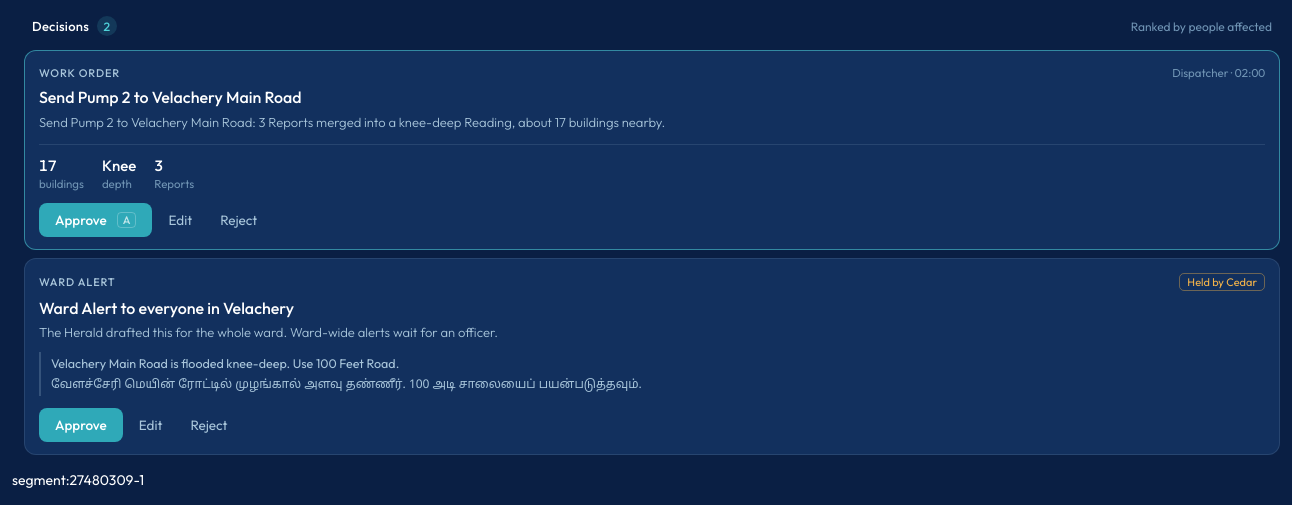
it: reject asks first
Expected: the element "Send Pump 2 to Velachery Main Road" is shown, [24,50,1280,250]
Click the button "Reject" below "depth": click(239, 220) [208,203,269,237]
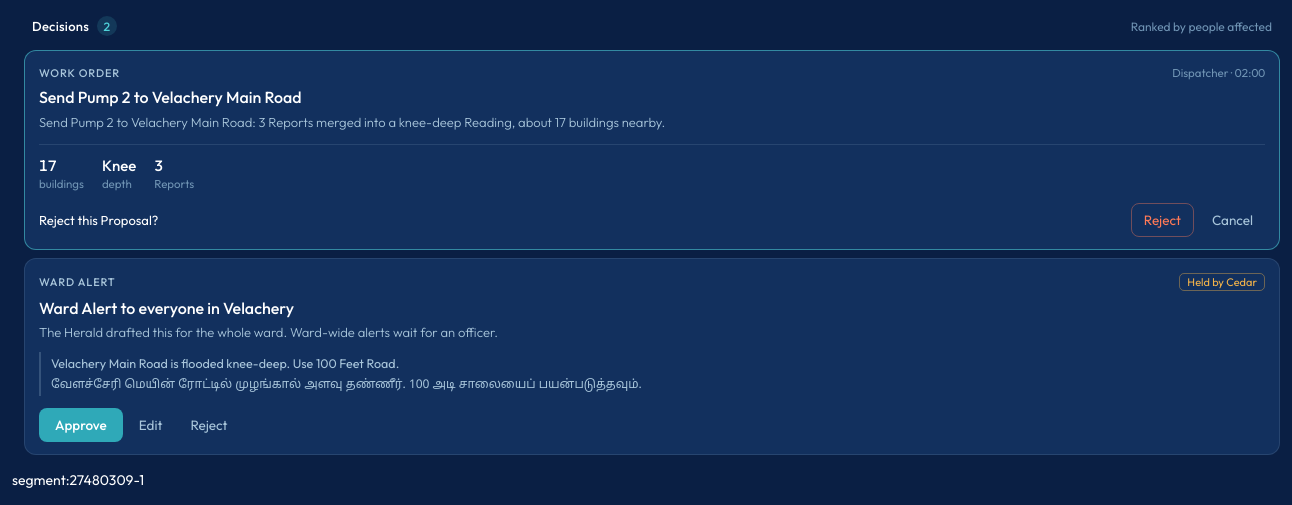
Result: the text "Reject this Proposal?" is shown at [39,212,158,228]
Click the button "Cancel": click(1232, 220) [1200,203,1265,237]
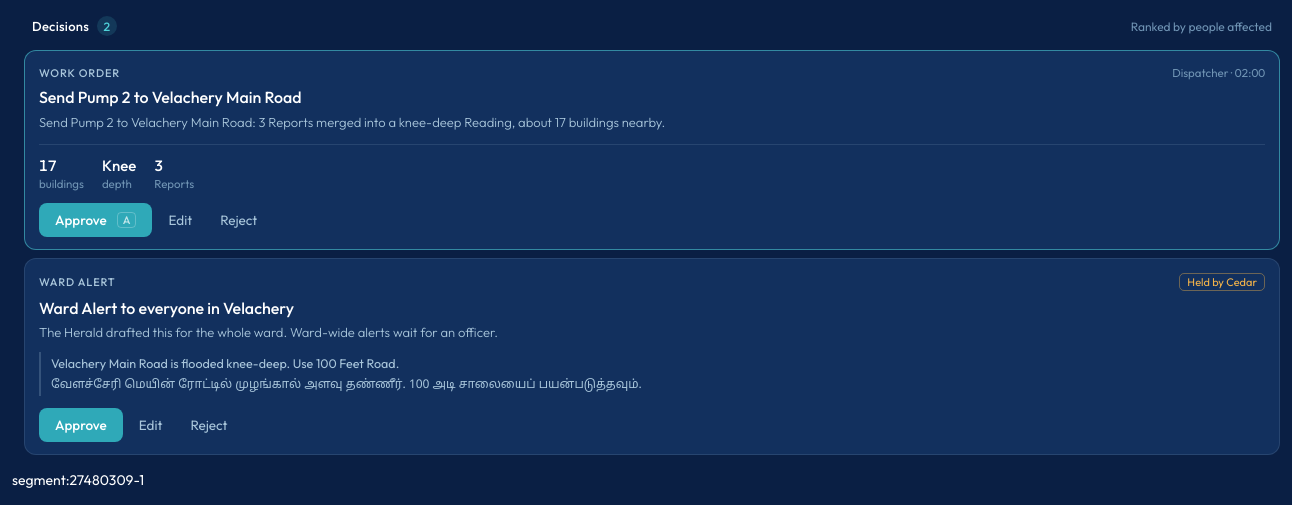
Result: the button "Approve A" is shown at [39,203,152,237]
Click the button "Reject" below "depth": click(239, 220) [208,203,269,237]
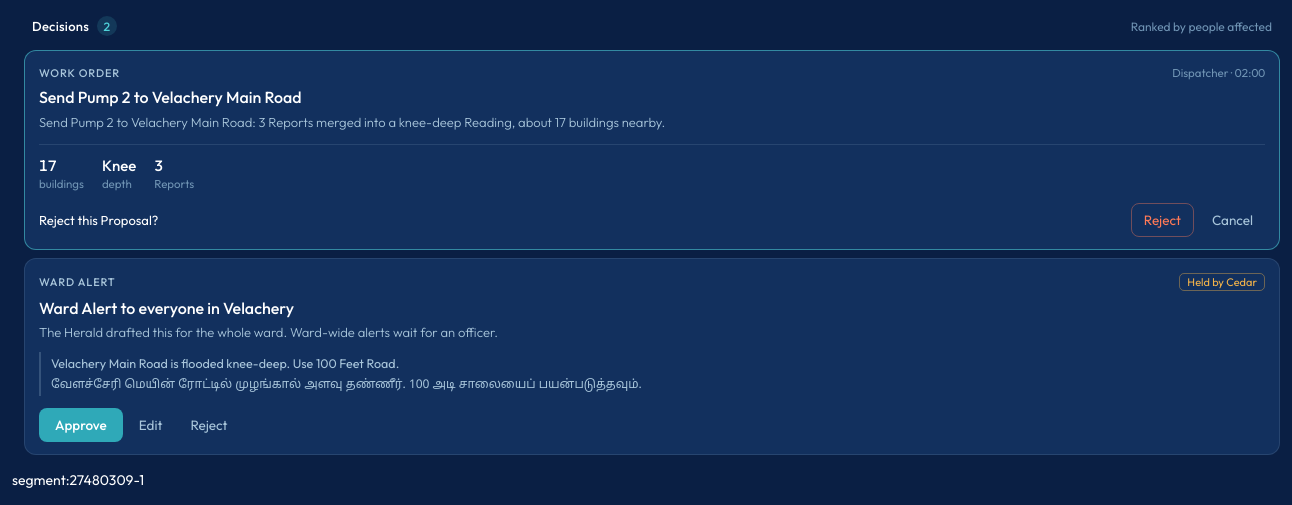
Click the button "Reject" in the row of "Reject this Proposal?": click(1162, 220) [1131,203,1194,237]
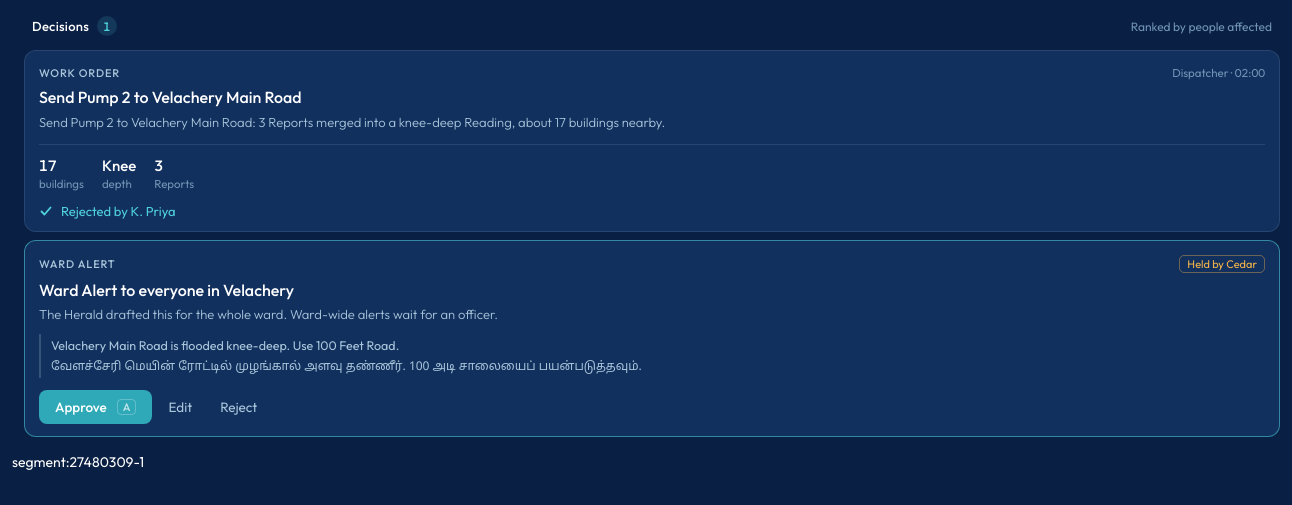
Result: the text "Rejected by K. Priya" is shown at [39,203,176,219]
